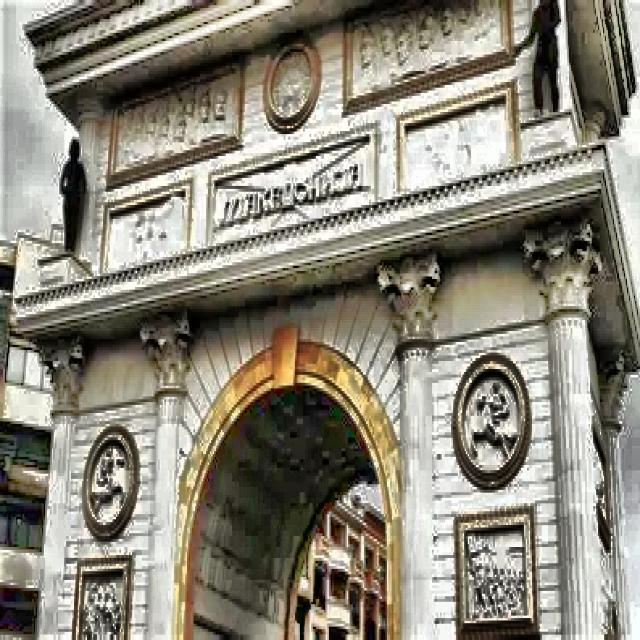triumphal arch: (9, 0, 638, 640)
